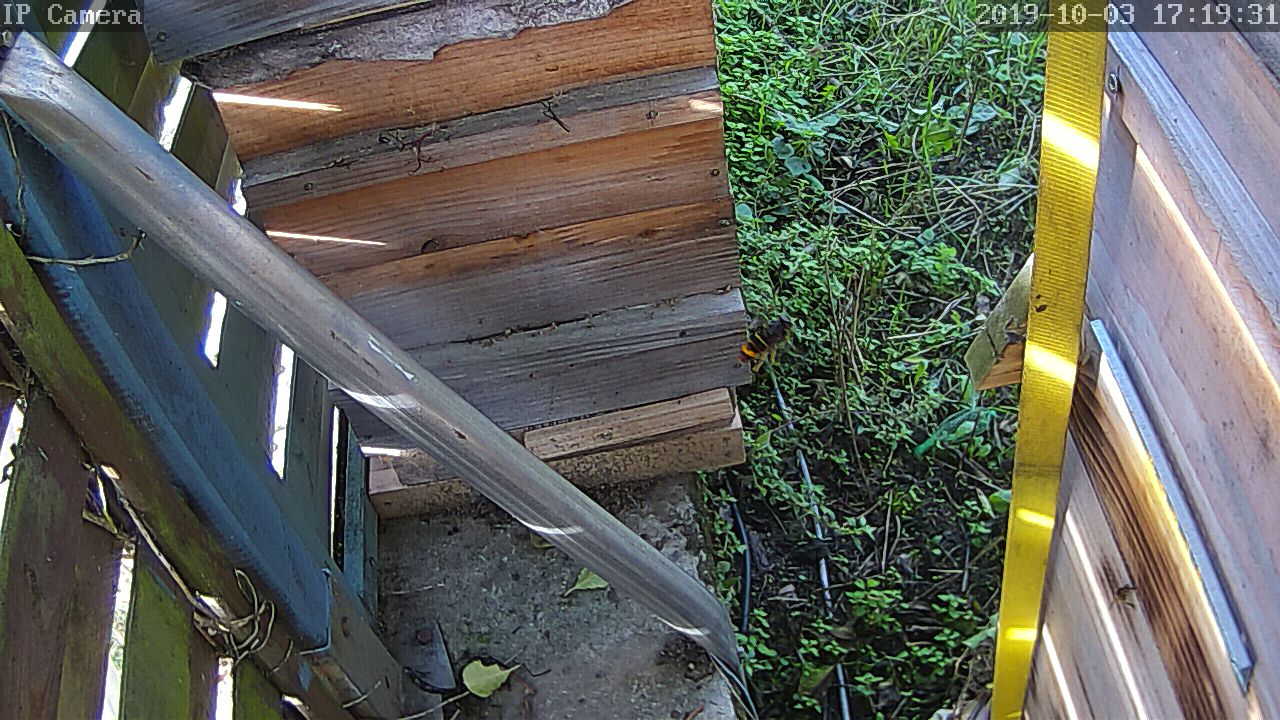bee: (1101, 578, 1141, 616)
hornet: (734, 315, 793, 370)
